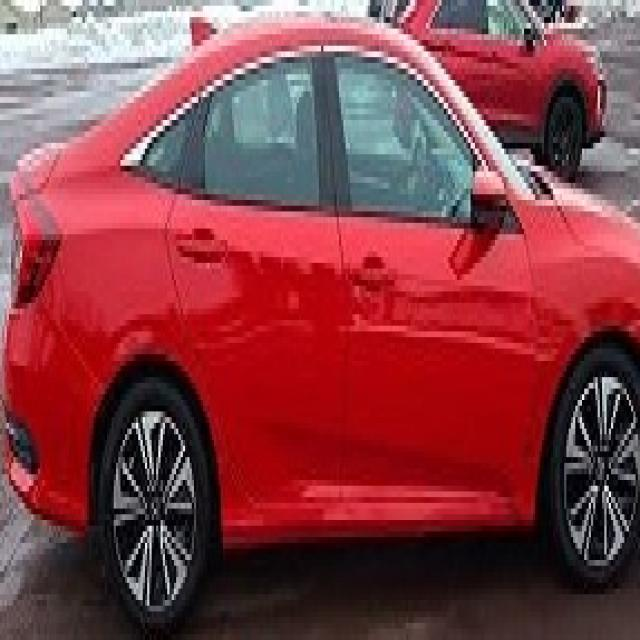maroon: (402, 0, 604, 160)
red: (7, 19, 634, 634)
